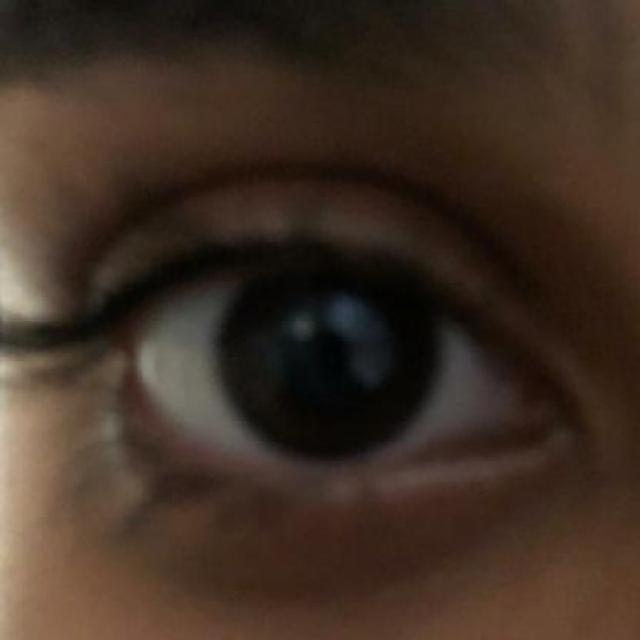awake: (120, 170, 563, 488)
